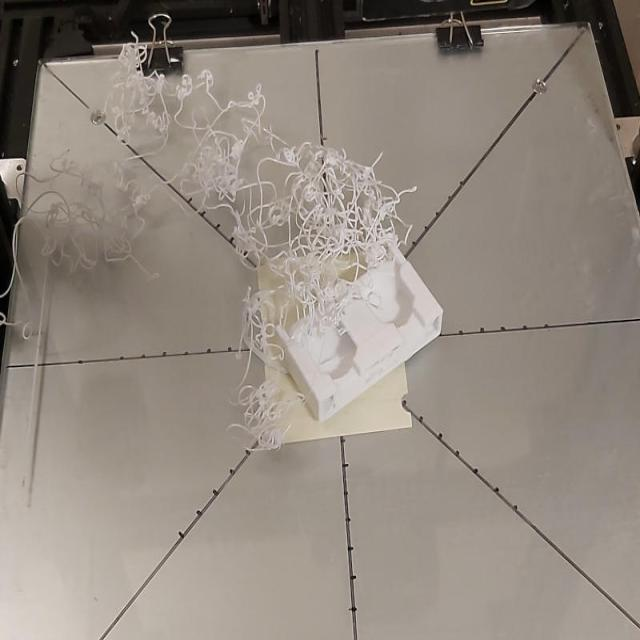spaghetti: (0, 34, 436, 444)
